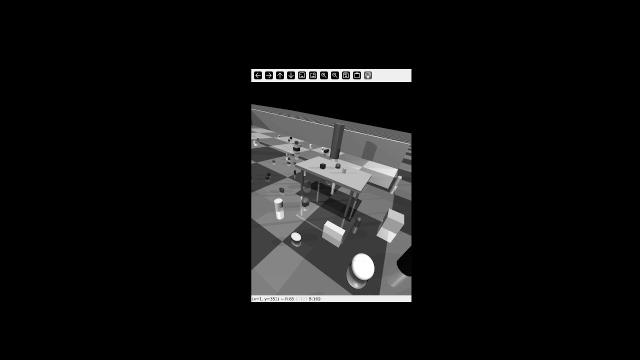cilindro: (329, 121, 346, 160), (273, 196, 287, 213), (353, 215, 362, 228), (395, 174, 401, 187), (333, 182, 338, 192), (342, 165, 347, 175), (292, 168, 298, 176), (323, 148, 332, 153), (301, 169, 307, 176), (265, 169, 271, 175), (285, 156, 293, 160), (256, 136, 262, 141), (252, 140, 259, 144), (285, 152, 288, 157)
cuadrado: (381, 207, 403, 239), (301, 180, 313, 190), (317, 163, 326, 174), (263, 176, 271, 181), (293, 144, 299, 148), (276, 135, 283, 138), (286, 161, 290, 165), (295, 140, 298, 145), (308, 143, 313, 146), (288, 136, 293, 138)
esfera: (350, 253, 376, 282), (288, 231, 302, 242), (301, 196, 312, 207), (276, 186, 286, 193), (334, 162, 342, 169), (271, 158, 275, 163), (286, 139, 291, 143), (320, 146, 325, 150), (293, 160, 297, 165), (299, 144, 302, 146)
rectangulo: (319, 219, 348, 241), (292, 148, 301, 152)
